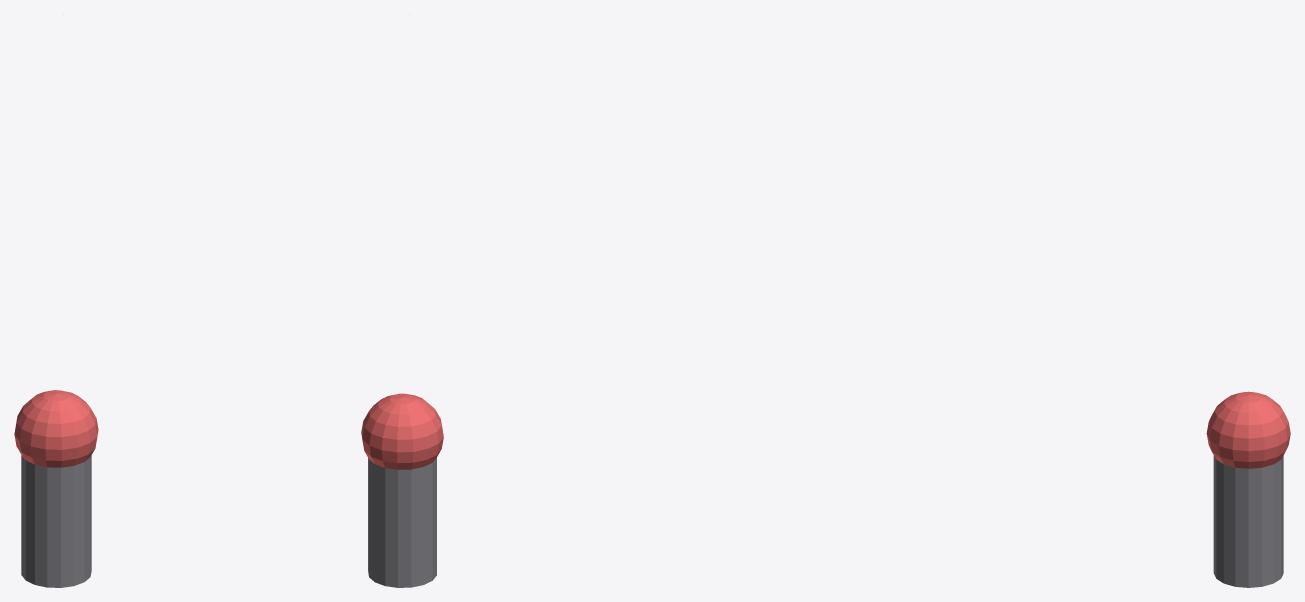
The model's file is firework_1tou_3d.glb.
3 views of the same model, side by side, from view 1: azimuth 30°, elevation 25°; view 2: azimuth 150°, elevation 25°; view 3: azimuth 270°, elevation 25° (orthographic).
Visible parts, largest first — view 1: firework_tube, firework_shell; view 2: firework_tube, firework_shell; view 3: firework_tube, firework_shell.
Part boxes in pixels (x1,y1,x2,y2): firework_tube: [21, 455, 91, 587]; firework_shell: [14, 390, 98, 467]; firework_tube: [368, 457, 436, 587]; firework_shell: [361, 393, 443, 469]; firework_tube: [1213, 455, 1283, 587]; firework_shell: [1206, 391, 1290, 468].
Bounding box in the file's own units: 0.12 × 0.8804 × 0.84.
